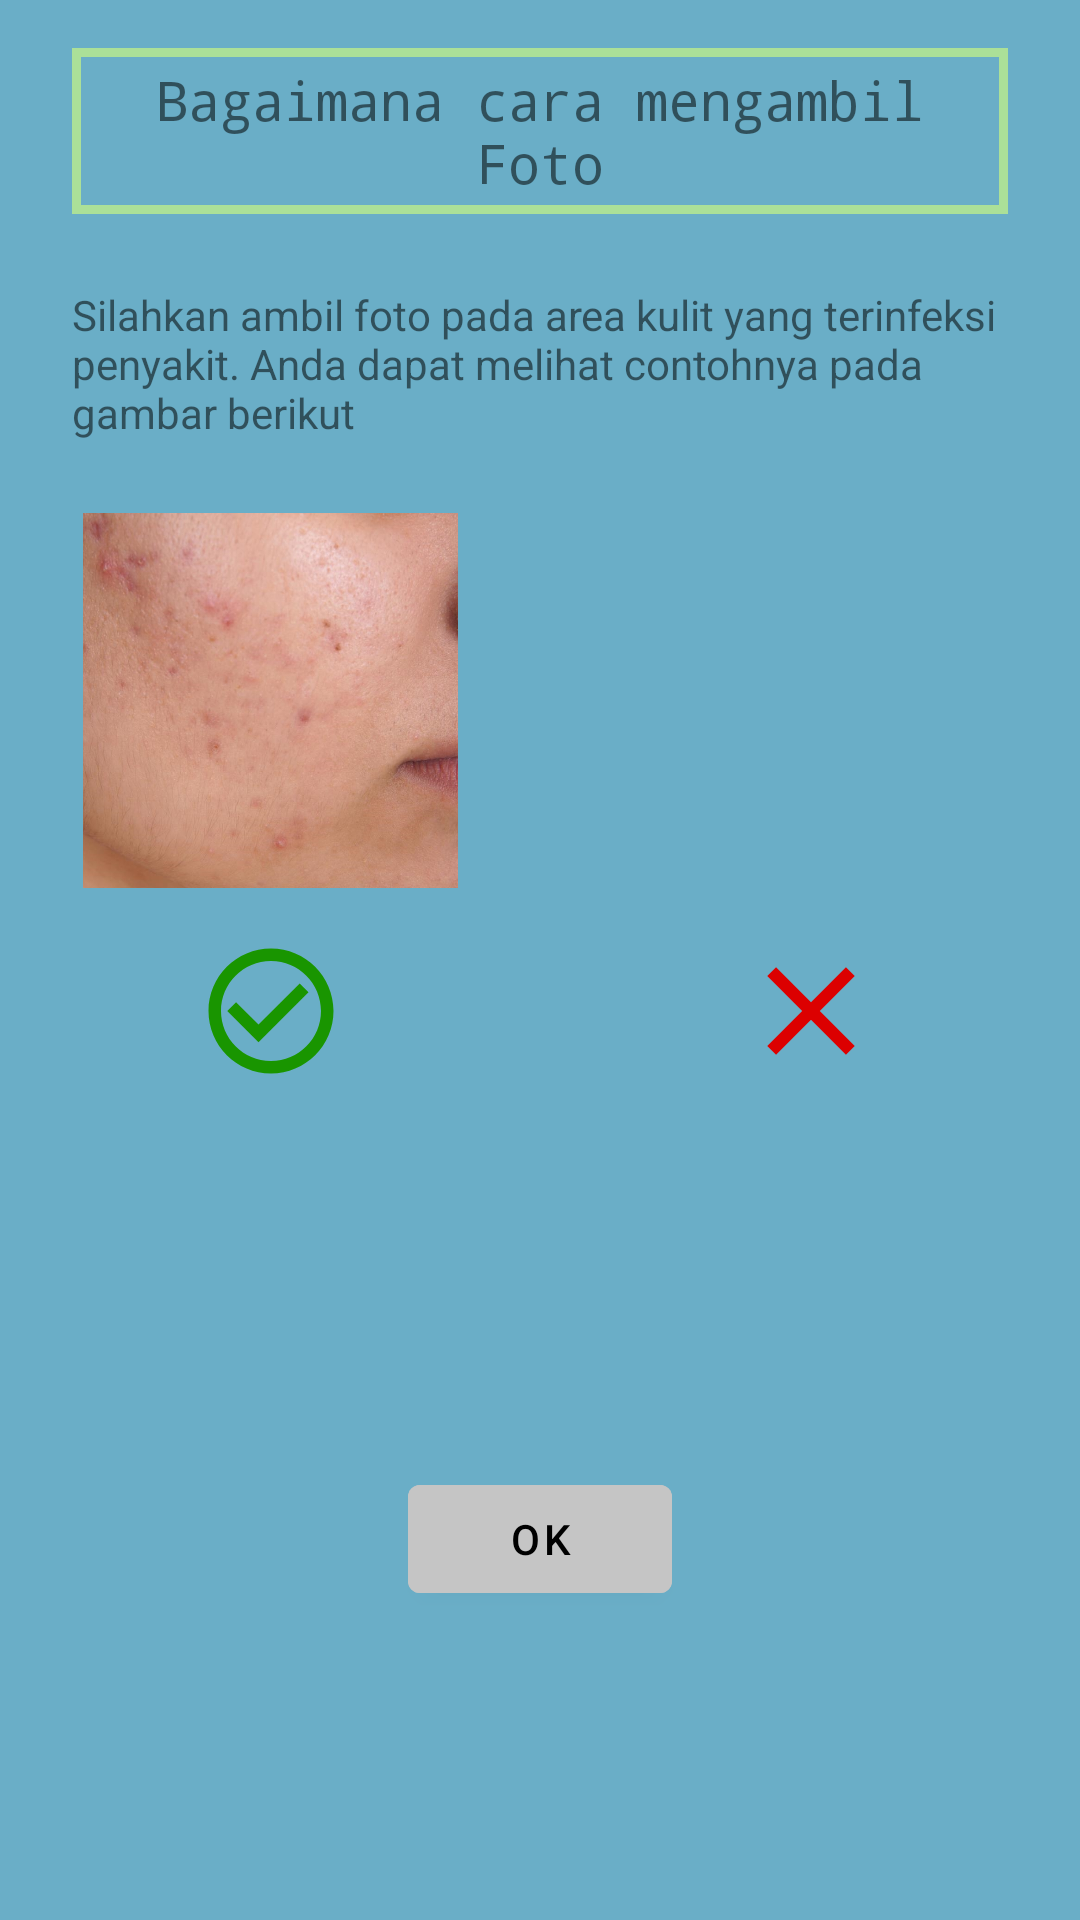

Screen size 1080×1920. Icon name, then its box in pixels as (x1, y1, x2, y2):
check circle: (208, 948, 334, 1074)
close: (767, 967, 855, 1055)
